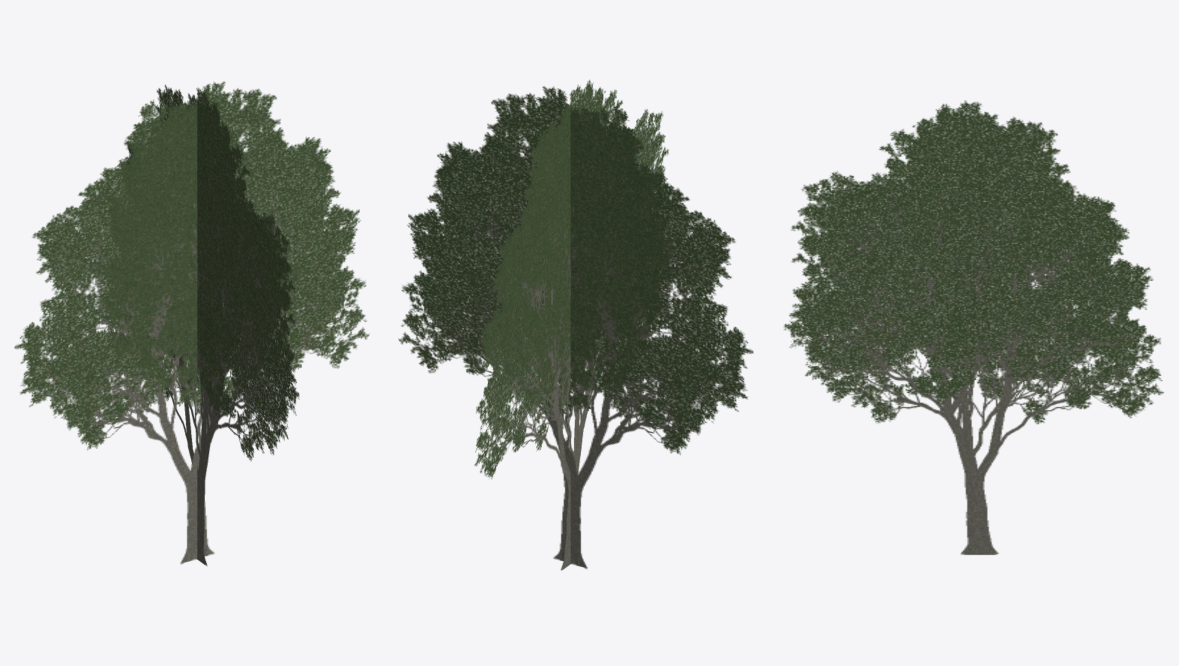
File: UmbellulariaCalifornica.glb
The picture shows the model from 3 angles, left to right: view 1: azimuth 30°, elevation 25°; view 2: azimuth 150°, elevation 25°; view 3: azimuth 270°, elevation 25°; orthographic projection. The views are drawn at different scales.
Visible parts, largest first — view 1: mesh__mat_billboard_5; view 2: mesh__mat_billboard_5; view 3: mesh__mat_billboard_5.
Boxes of the visible parts, x1=… form: mesh__mat_billboard_5: x1=14, y1=81, x2=369, y2=565; mesh__mat_billboard_5: x1=398, y1=80, x2=753, y2=570; mesh__mat_billboard_5: x1=784, y1=100, x2=1163, y2=554.
Size of the model in its own units: 21.31 by 28.15 by 20.67.
1 material, 1 textured.
